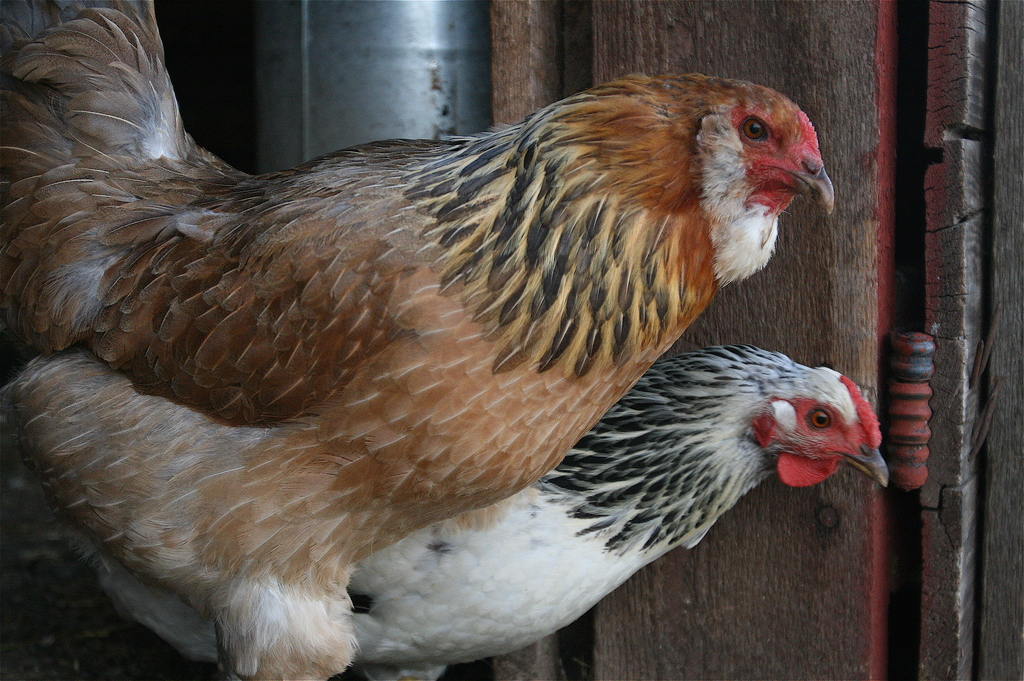chicken: (1, 1, 848, 353), (476, 357, 942, 645)
